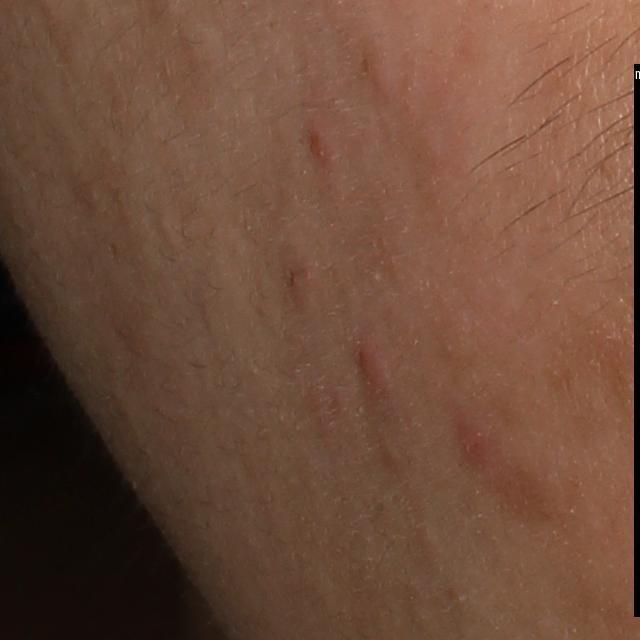papule: (345, 326, 391, 389), (449, 414, 494, 464), (301, 121, 337, 173)
